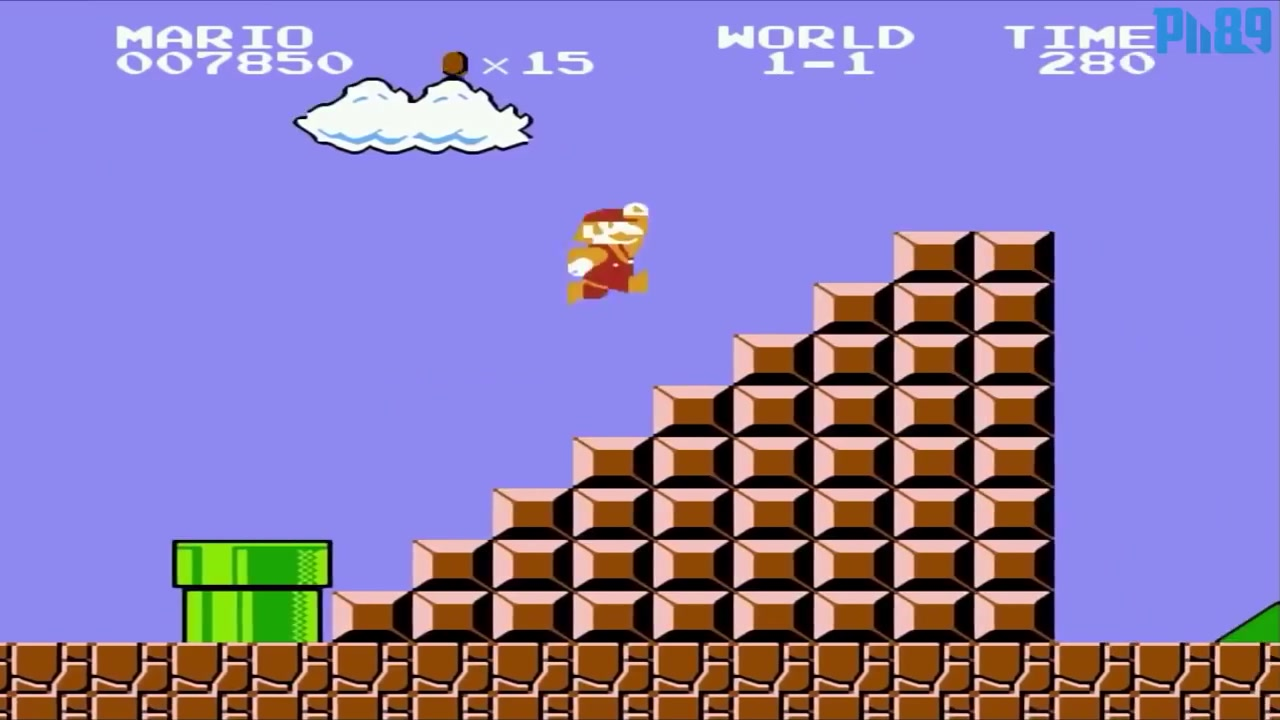mario: (544, 198, 674, 312)
